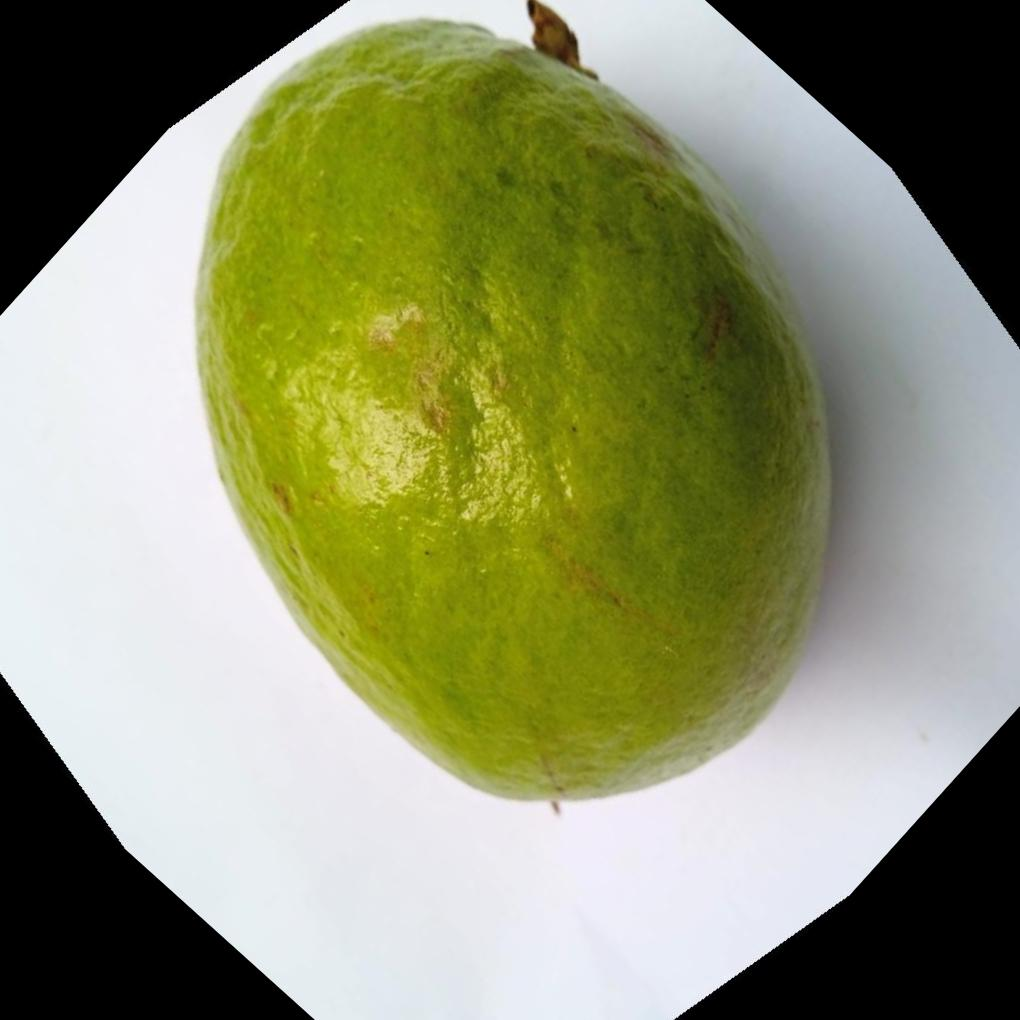FreshGuava: (195, 13, 836, 802)
